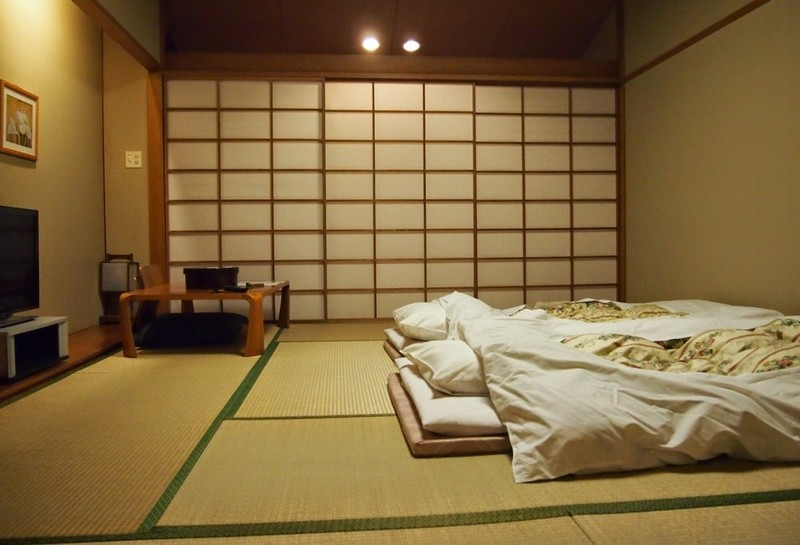bed: (389, 333, 800, 458), (377, 288, 784, 348)
table: (115, 272, 295, 364)
